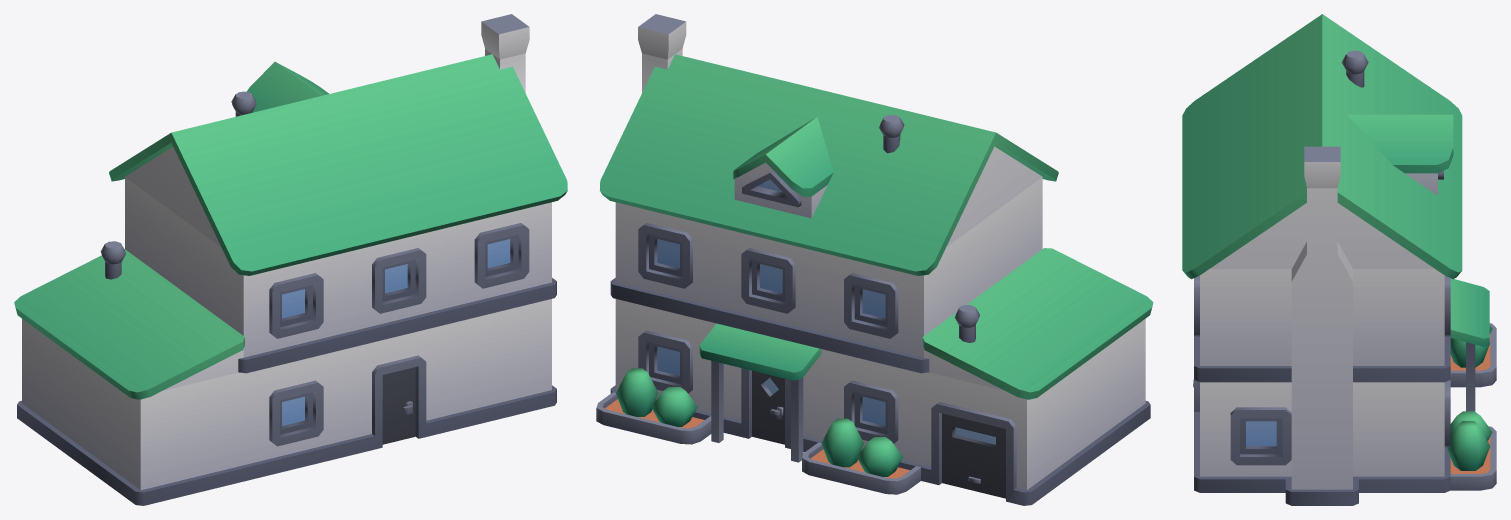
The model's file is house_3.fbx.
The picture shows the model from 3 angles, left to right: view 1: azimuth 30°, elevation 25°; view 2: azimuth 150°, elevation 25°; view 3: azimuth 270°, elevation 25°; orthographic projection. The views are drawn at different scales.
Parts seen in each view (by area): view 1: house_3; view 2: house_3; view 3: house_3.
Part boxes in pixels (x1,y1,x2,y2): house_3: (14,14,567,505); house_3: (596,14,1153,505); house_3: (1182,14,1496,505).
Size of the model in its own units: 1.76 by 1.24 by 1.03.
Materials: 1 (1 with a texture image).
